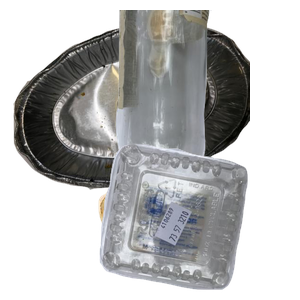glass: (113, 10, 300, 190)
metal: (11, 20, 251, 200)
plastic: (97, 141, 300, 300)
trash: (96, 181, 277, 300)
